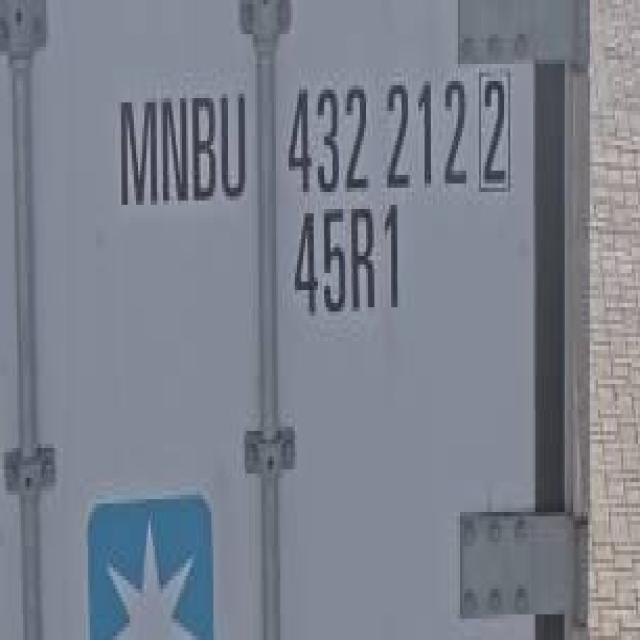dv: (476, 65, 514, 198)
owner: (116, 84, 249, 212)
serial: (286, 68, 471, 197)
size: (287, 202, 413, 328)
